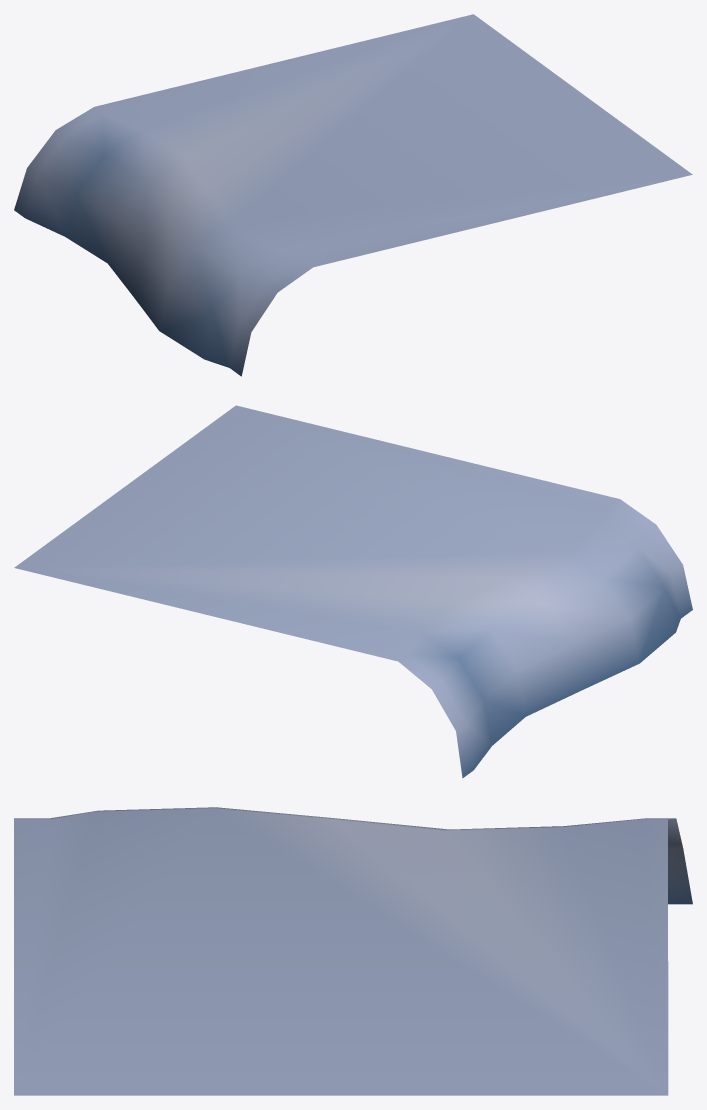
File: Surface_RoadUpInner.fbx
The picture shows the model from 3 angles, top to bottom: view 1: azimuth 30°, elevation 25°; view 2: azimuth 150°, elevation 25°; view 3: azimuth 270°, elevation 25°; orthographic projection. The views are drawn at different scales.
Visible parts, largest first — view 1: Surface_RoadUpInner; view 2: Surface_RoadUpInner; view 3: Surface_RoadUpInner.
Boxes of the visible parts, box(x1,y1,x2,y2) form: Surface_RoadUpInner: box(14, 14, 692, 376); Surface_RoadUpInner: box(14, 405, 692, 778); Surface_RoadUpInner: box(14, 807, 692, 1095).
Size of the model in its own units: 2202 by 415 by 1861.
